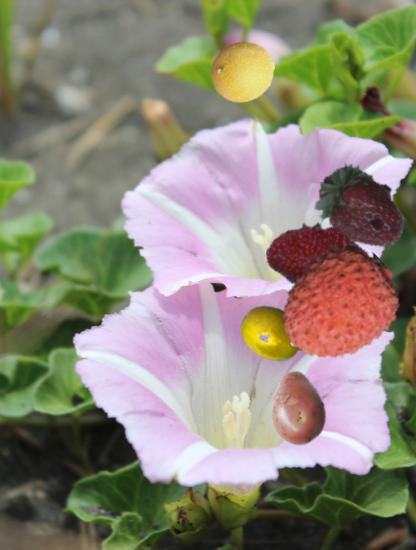Cantaloupe: (211, 40, 276, 105)
Lychee: (278, 245, 401, 368)
Maracuja: (240, 301, 306, 367)
Potato: (259, 372, 334, 447)
Strawberry: (266, 205, 374, 313), (309, 158, 411, 260)
